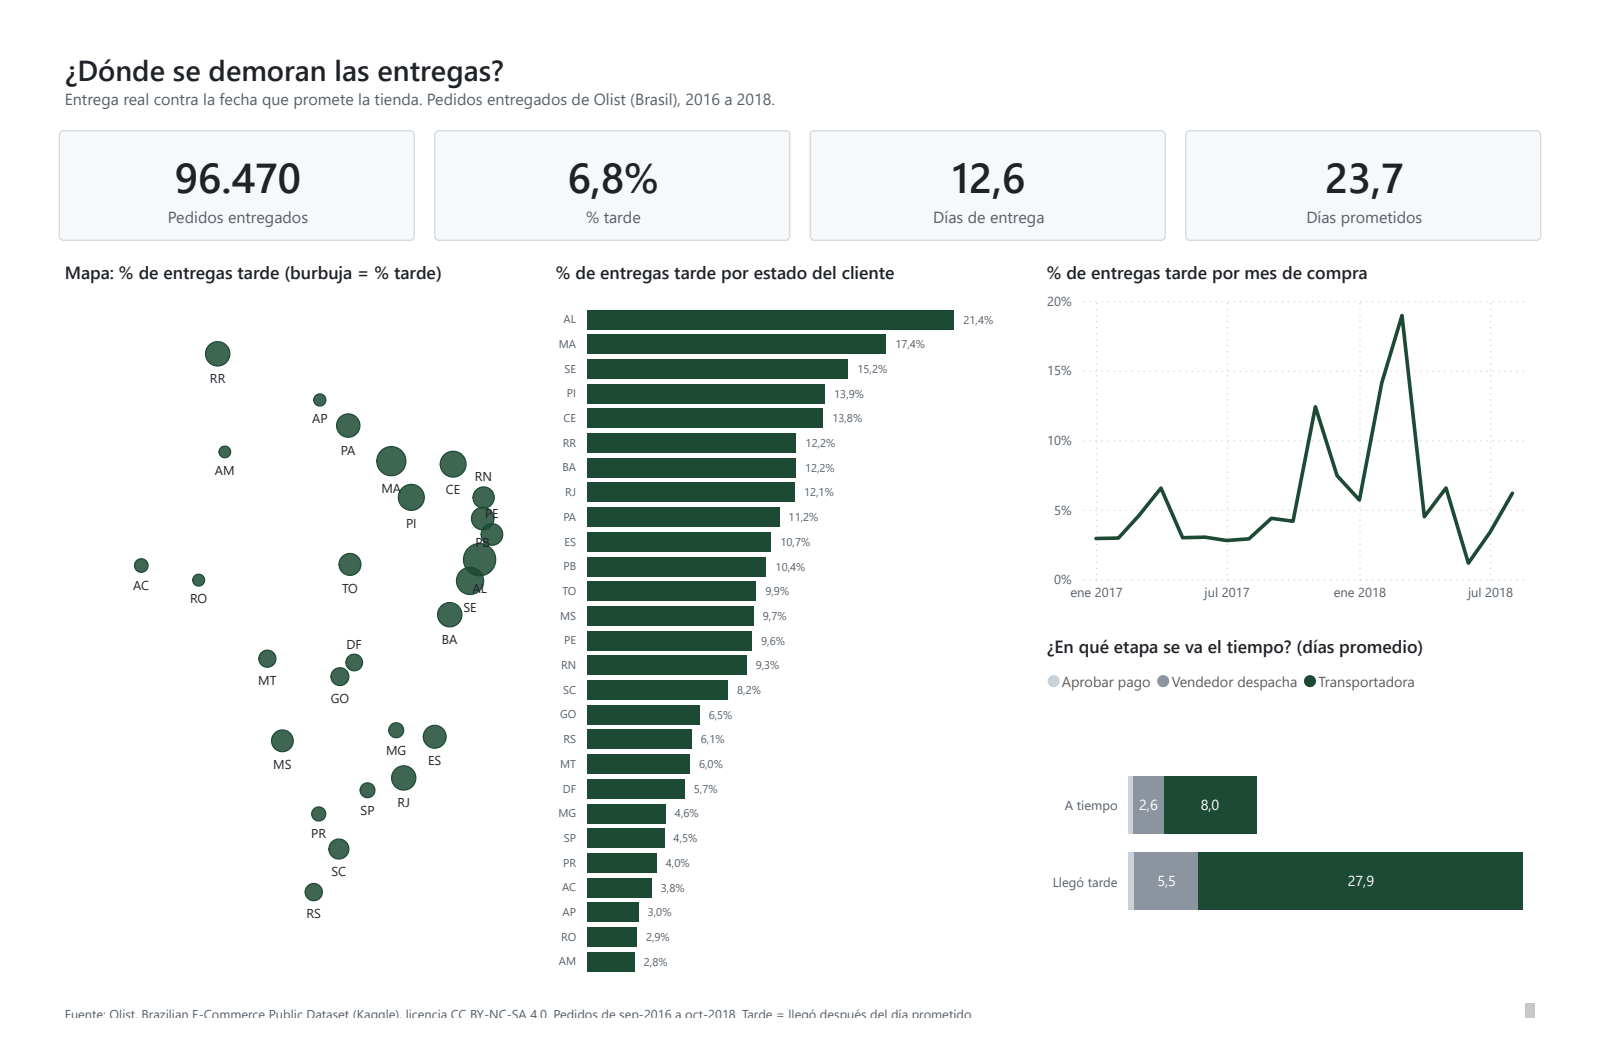

This screenshot's page, from the dashboard's own definition file:
{"tool":"powerbi","page":{"name":"Logística","canvas":[1280,830],"ordinal":0},"visuals":[{"type":"textbox","box":[24,12,1232,64],"z":0},{"type":"textbox","box":[24,804,1232,22],"z":1000},{"type":"card","fields":{"Values":["Medidas.Pedidos entregados"]},"box":[24,84,296,92],"z":2000},{"type":"card","fields":{"Values":["Medidas.% tarde"]},"box":[336,84,296,92],"z":3000},{"type":"card","fields":{"Values":["Medidas.Días de entrega"]},"box":[648,84,296,92],"z":4000},{"type":"card","fields":{"Values":["Medidas.Días prometidos"]},"box":[960,84,296,92],"z":5000},{"type":"scatterChart","title":"Mapa: % de entregas tarde (burbuja = % tarde)","fields":{"Category":["Estados.codigo"],"Size":["Medidas.% tarde"],"X":["Medidas.Longitud"],"Y":["Medidas.Latitud"]},"box":[24,192,392,604],"z":6000},{"type":"clusteredBarChart","title":"% de entregas tarde por estado del cliente","fields":{"Category":["Estados.codigo"],"Y":["Medidas.% tarde"]},"box":[432,192,392,604],"z":7000},{"type":"lineChart","title":"% de entregas tarde por mes de compra","fields":{"Category":["Calendario.inicio_mes"],"Y":["Medidas.% tarde (meses completos)"]},"box":[840,192,416,294],"z":8000},{"type":"barChart","title":"¿En qué etapa se va el tiempo? (días promedio)","fields":{"Category":["Pedidos.resultado"],"Y":["Medidas.Aprobar el pago (días)","Medidas.Vendedor despacha (días)","Medidas.Transportadora (días)"]},"box":[840,502,416,294],"z":9000}]}

Visuals, with their boxes in screenshot pixels (x1, y1, x2, y2), scaled from the page's 1280x830 canvas onto the 1600x1058 screenshot:
textbox: {"x1": 30, "y1": 15, "x2": 1570, "y2": 97}
textbox: {"x1": 30, "y1": 1025, "x2": 1570, "y2": 1053}
card - Medidas.Pedidos entregados: {"x1": 30, "y1": 107, "x2": 400, "y2": 224}
card - Medidas.% tarde: {"x1": 420, "y1": 107, "x2": 790, "y2": 224}
card - Medidas.Días de entrega: {"x1": 810, "y1": 107, "x2": 1180, "y2": 224}
card - Medidas.Días prometidos: {"x1": 1200, "y1": 107, "x2": 1570, "y2": 224}
"Mapa: % de entregas tarde (burbuja = % tarde)" scatterChart: {"x1": 30, "y1": 245, "x2": 520, "y2": 1015}
"% de entregas tarde por estado del cliente" clusteredBarChart: {"x1": 540, "y1": 245, "x2": 1030, "y2": 1015}
"% de entregas tarde por mes de compra" lineChart: {"x1": 1050, "y1": 245, "x2": 1570, "y2": 620}
"¿En qué etapa se va el tiempo? (días promedio)" barChart: {"x1": 1050, "y1": 640, "x2": 1570, "y2": 1015}
